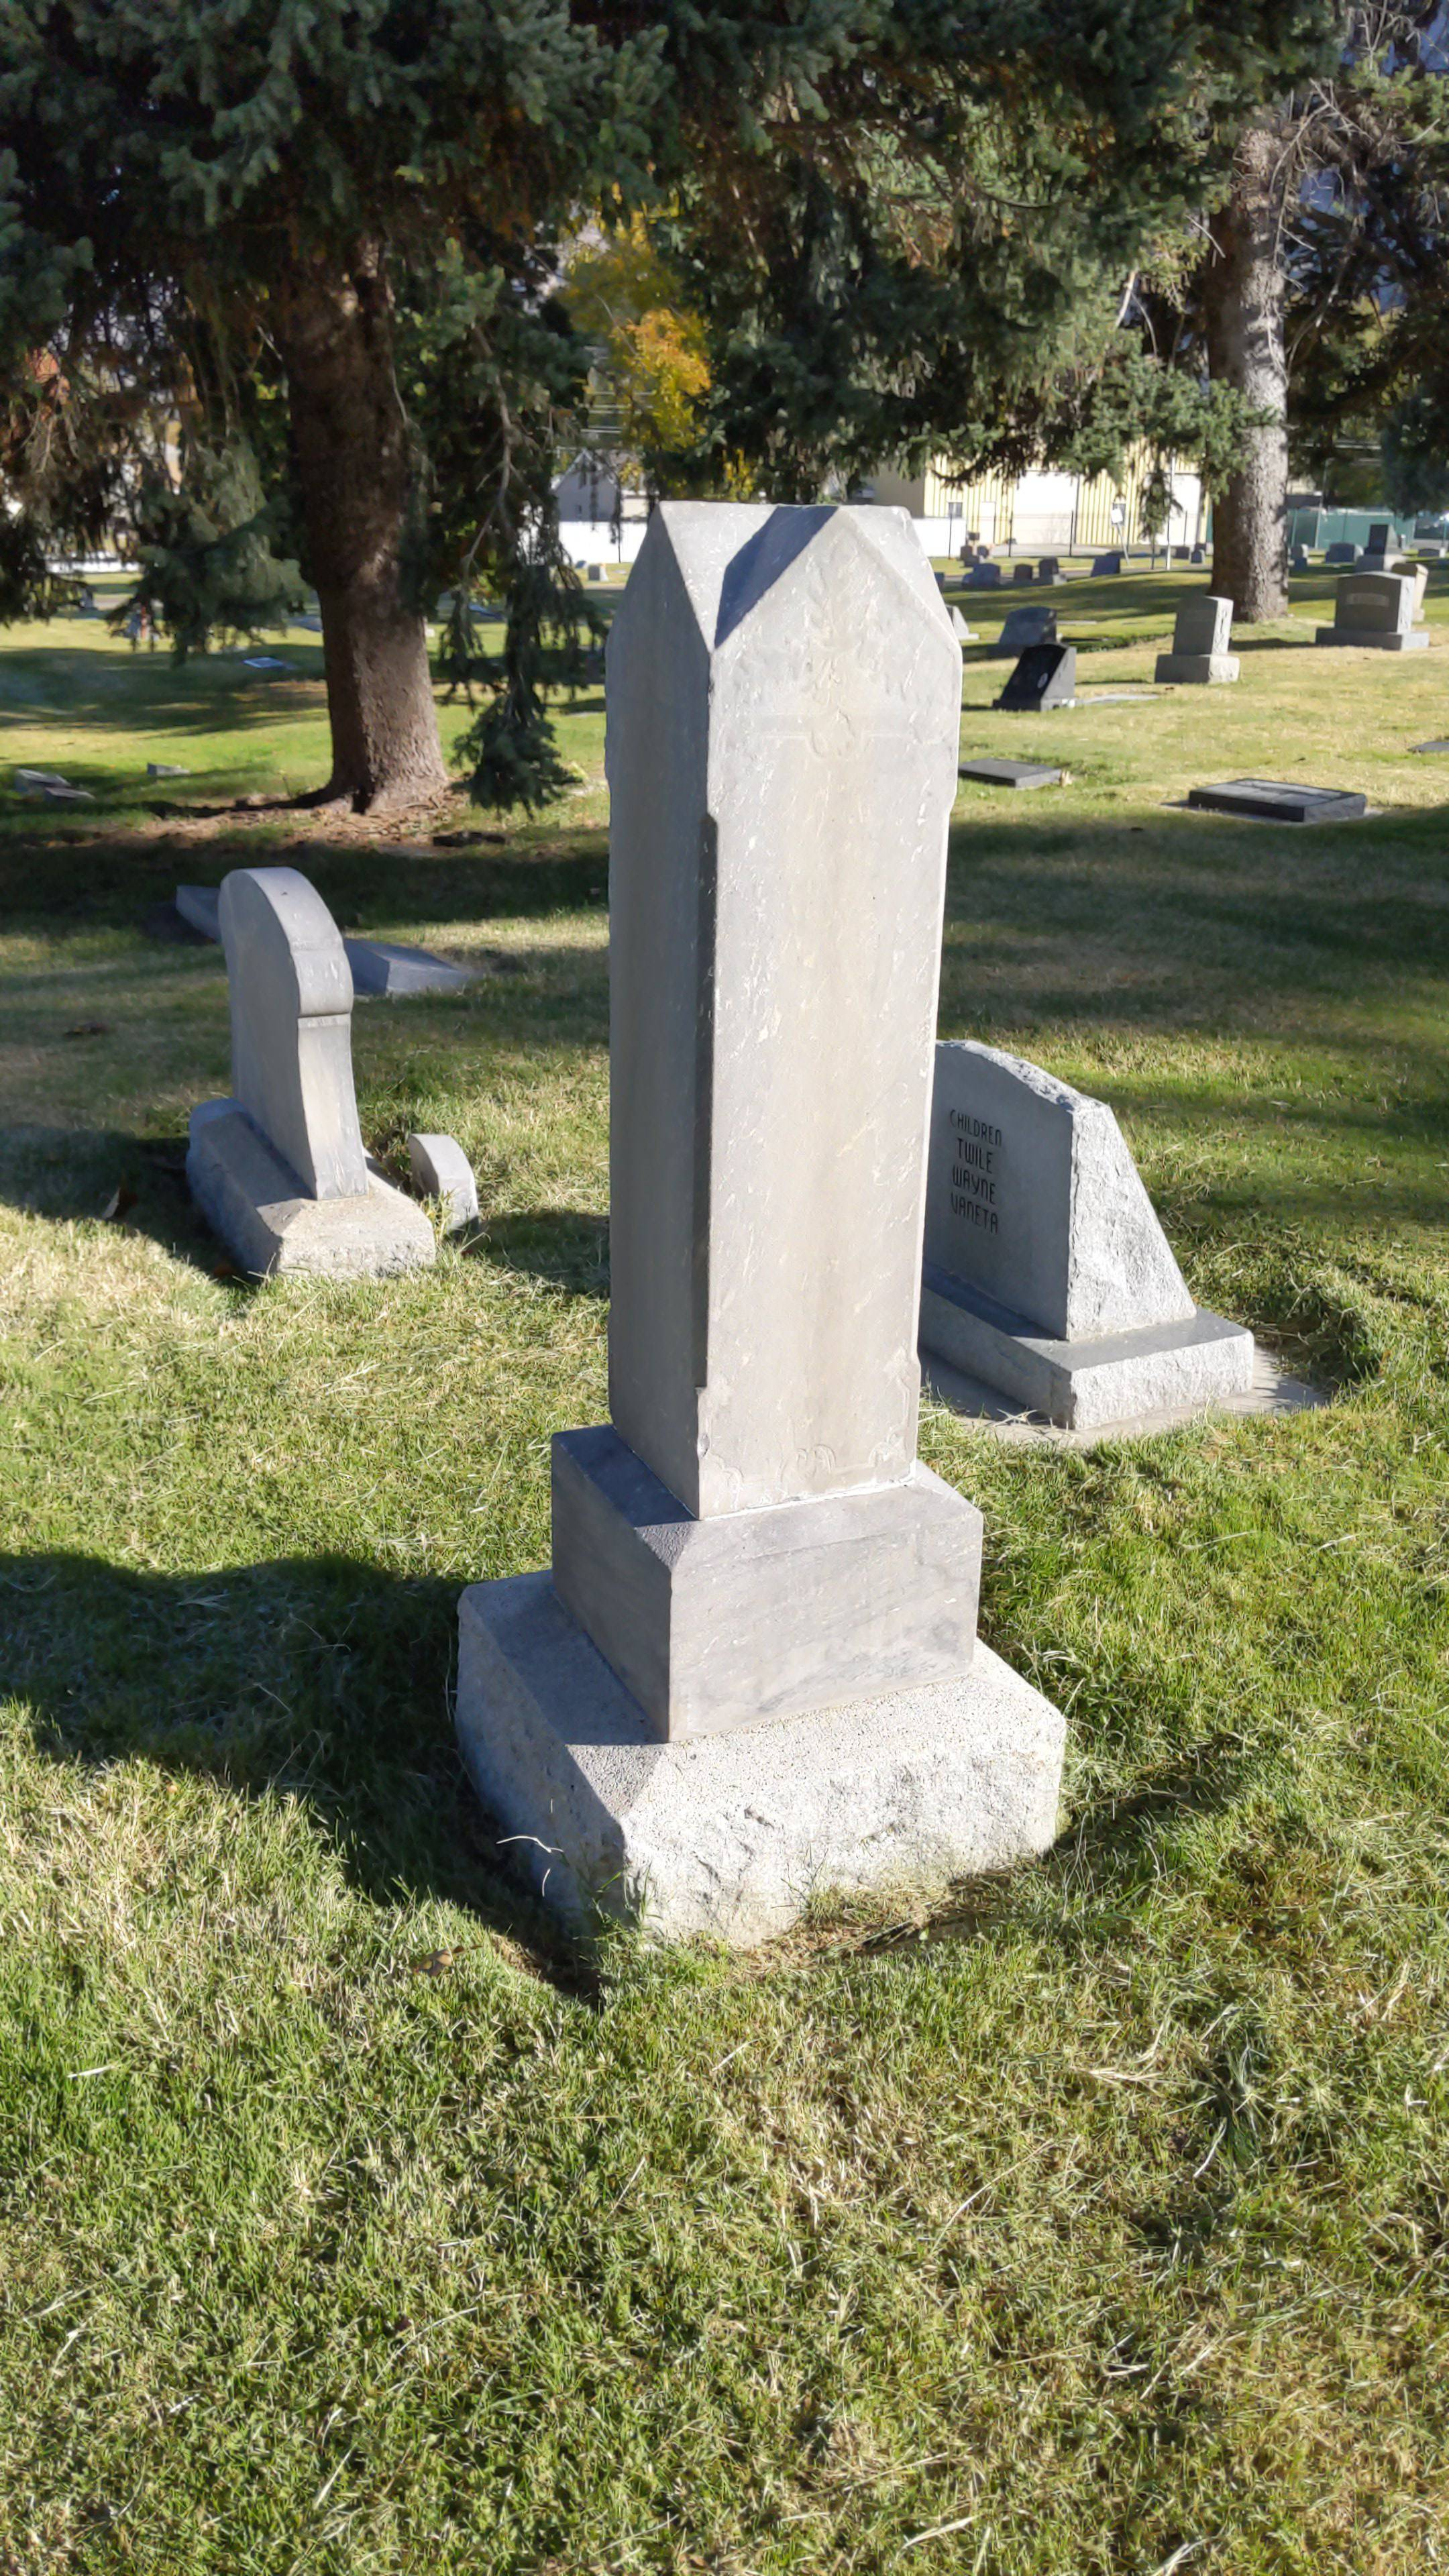obelisk: (547, 504, 980, 1737)
